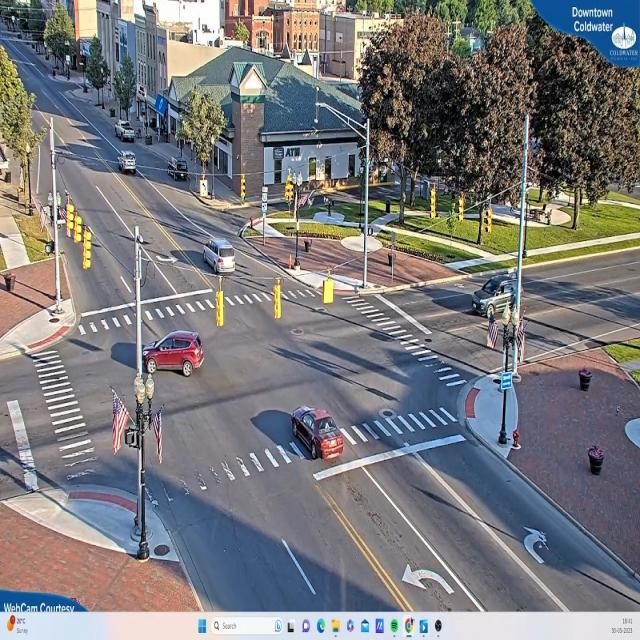car: (289, 408, 344, 462), (150, 330, 208, 379), (469, 277, 526, 323), (203, 239, 236, 275), (116, 152, 137, 176), (116, 124, 137, 142)
